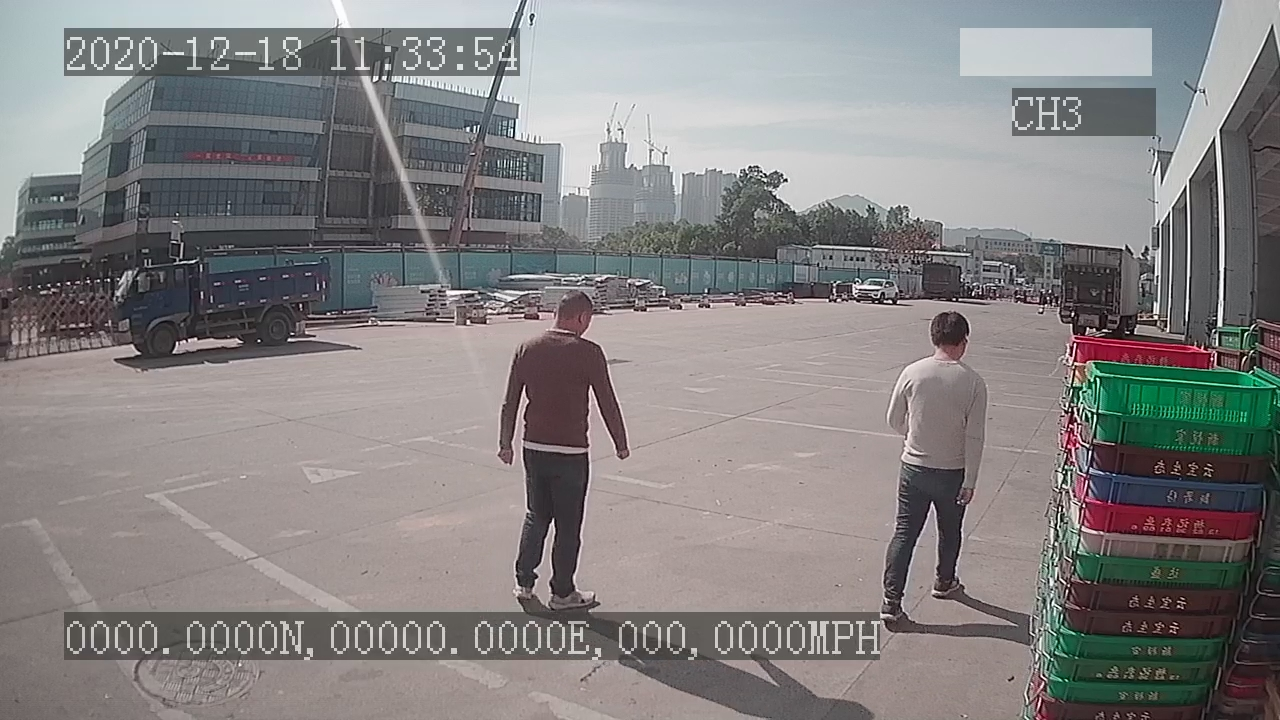person: (494, 288, 630, 607)
